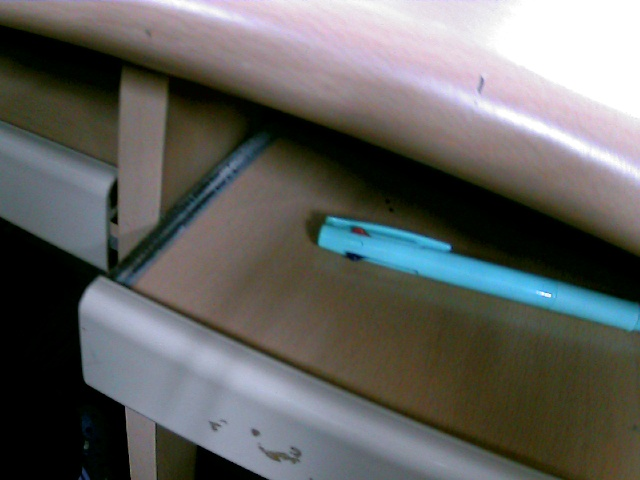pen: (307, 199, 636, 343)
